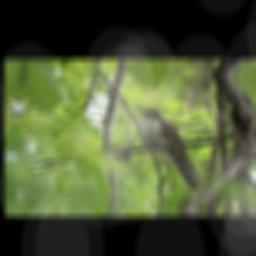Cuckoo: (121, 106, 218, 192)
